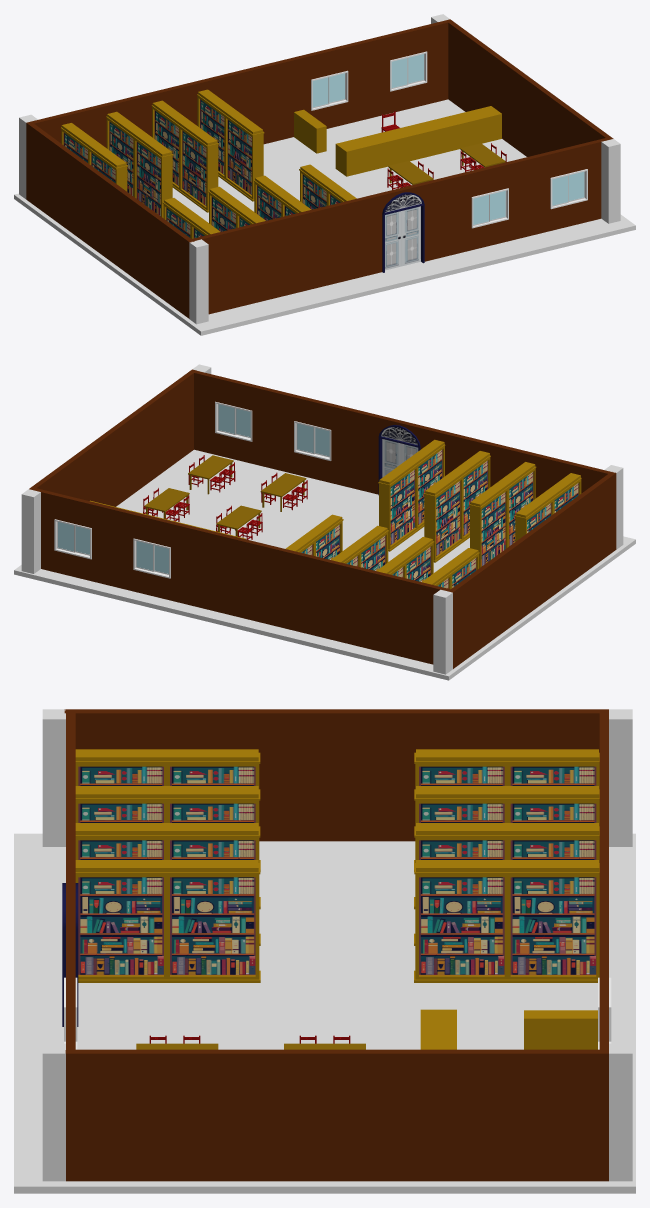
File: Library_update_Final_3.glb
The picture shows the model from 3 angles, top to bottom: view 1: azimuth 30°, elevation 25°; view 2: azimuth 150°, elevation 25°; view 3: azimuth 270°, elevation 25°; orthographic projection. The views are drawn at different scales.
Parts seen in each view (by area): view 1: wall_front, wall_back, Floor, wall_left, wall_right, counter_1, BookshelfA10, BookshelfA2, BookshelfA18, piller3, piller4, BookshelfA3 (+15 smaller); view 2: wall_back, wall_front, Floor, wall_left, wall_right, BookshelfA7, BookshelfA15, BookshelfA23, piller1, piller2, BookshelfA14, BookshelfA6 (+14 smaller); view 3: Floor, wall_right, wall_left, BookshelfA4, BookshelfA, BookshelfA1, BookshelfA5, wall_front, wall_back, piller1, piller4, piller2 (+16 smaller).
Boxes of the visible parts, x1,y1,x2,y2 form: wall_front: (192,138,608,314); wall_back: (31,20,448,147); Floor: (14,99,635,335); wall_left: (26,121,194,318); wall_right: (445,19,613,156); counter_1: (335,106,501,176); BookshelfA10: (178,122,213,212); BookshelfA2: (224,111,258,201); BookshelfA18: (134,133,167,218); piller3: (189,239,208,324); piller4: (601,139,620,223); BookshelfA3: (197,90,229,180); wall_back: (34,488,450,664); wall_front: (194,371,610,498); Floor: (14,449,635,680); wall_left: (448,472,616,668); wall_right: (29,369,196,506); BookshelfA7: (384,461,418,551); BookshelfA15: (430,472,462,562); BookshelfA23: (475,483,508,568); piller1: (21,489,40,573); piller2: (433,589,452,674); BookshelfA14: (458,452,490,542); BookshelfA6: (412,441,445,530); Floor: (14,833,635,1193); wall_right: (65,1049,608,1181); wall_left: (64,709,608,841); BookshelfA4: (165,864,260,982); BookshelfA: (505,864,599,982); BookshelfA1: (414,864,509,982); BookshelfA5: (75,864,168,982); wall_front: (64,713,77,1049); wall_back: (598,713,611,1049); piller1: (609,1043,632,1181); piller4: (42,1043,65,1181); piller2: (609,709,632,846).
Size of the model in its own units: 17.69 by 3.15 by 13.18.
16 materials, 3 textured.
